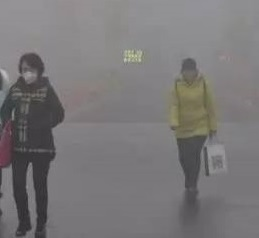person: (1, 50, 67, 237), (167, 57, 227, 207)
